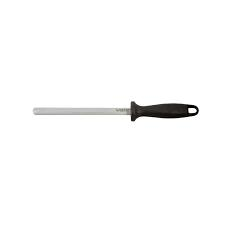Knife: (32, 100, 198, 121)
